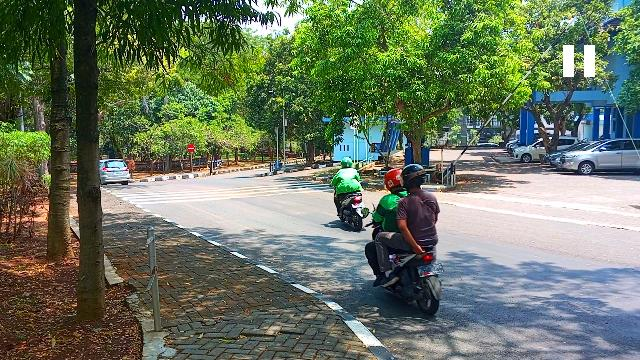helm: (404, 165, 431, 194), (383, 169, 407, 193), (342, 157, 355, 172)
motor: (361, 205, 449, 317), (328, 181, 372, 235)
